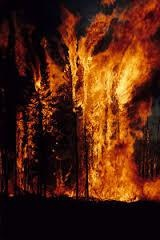fire: (13, 0, 156, 201)
